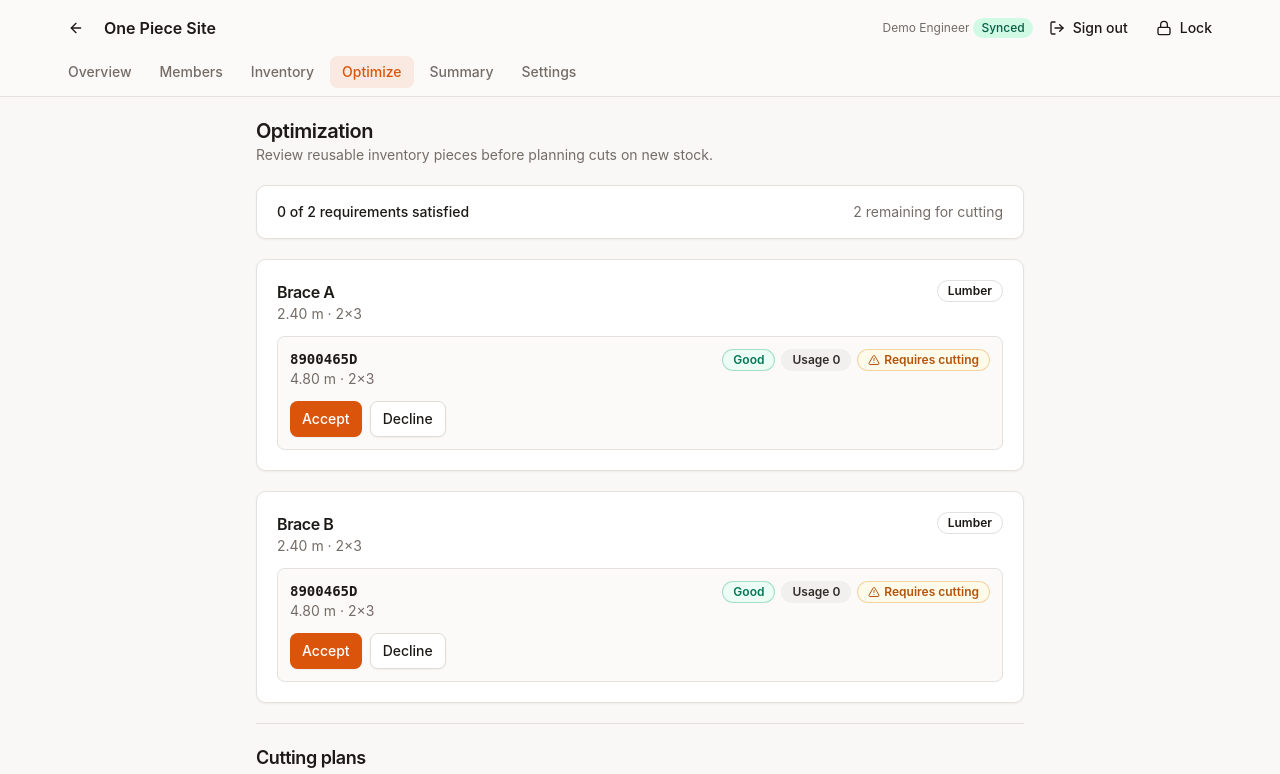
OptimizationScreen matching › prevents one physical piece from satisfying a second requirement
expect the heading "Optimization" is shown: met, box [256, 119, 373, 143]
Step 1. Click the 1st button "Accept" → (326, 419), box [290, 401, 362, 437]
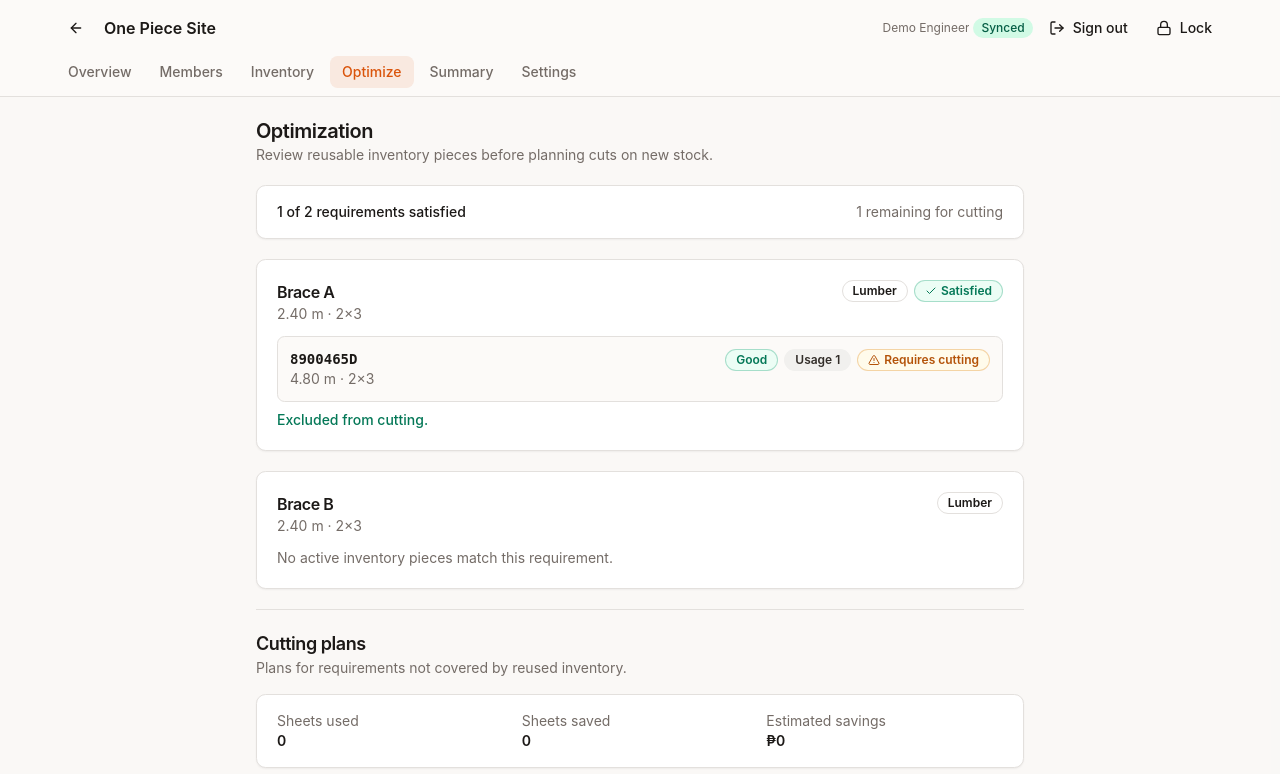
expect the text "No active inventory pieces match this requirement." is shown once: met, box [277, 549, 613, 566]
expect the text "Excluded from cutting." is shown: met, box [277, 411, 428, 428]
expect the button "Accept" is gone: met
